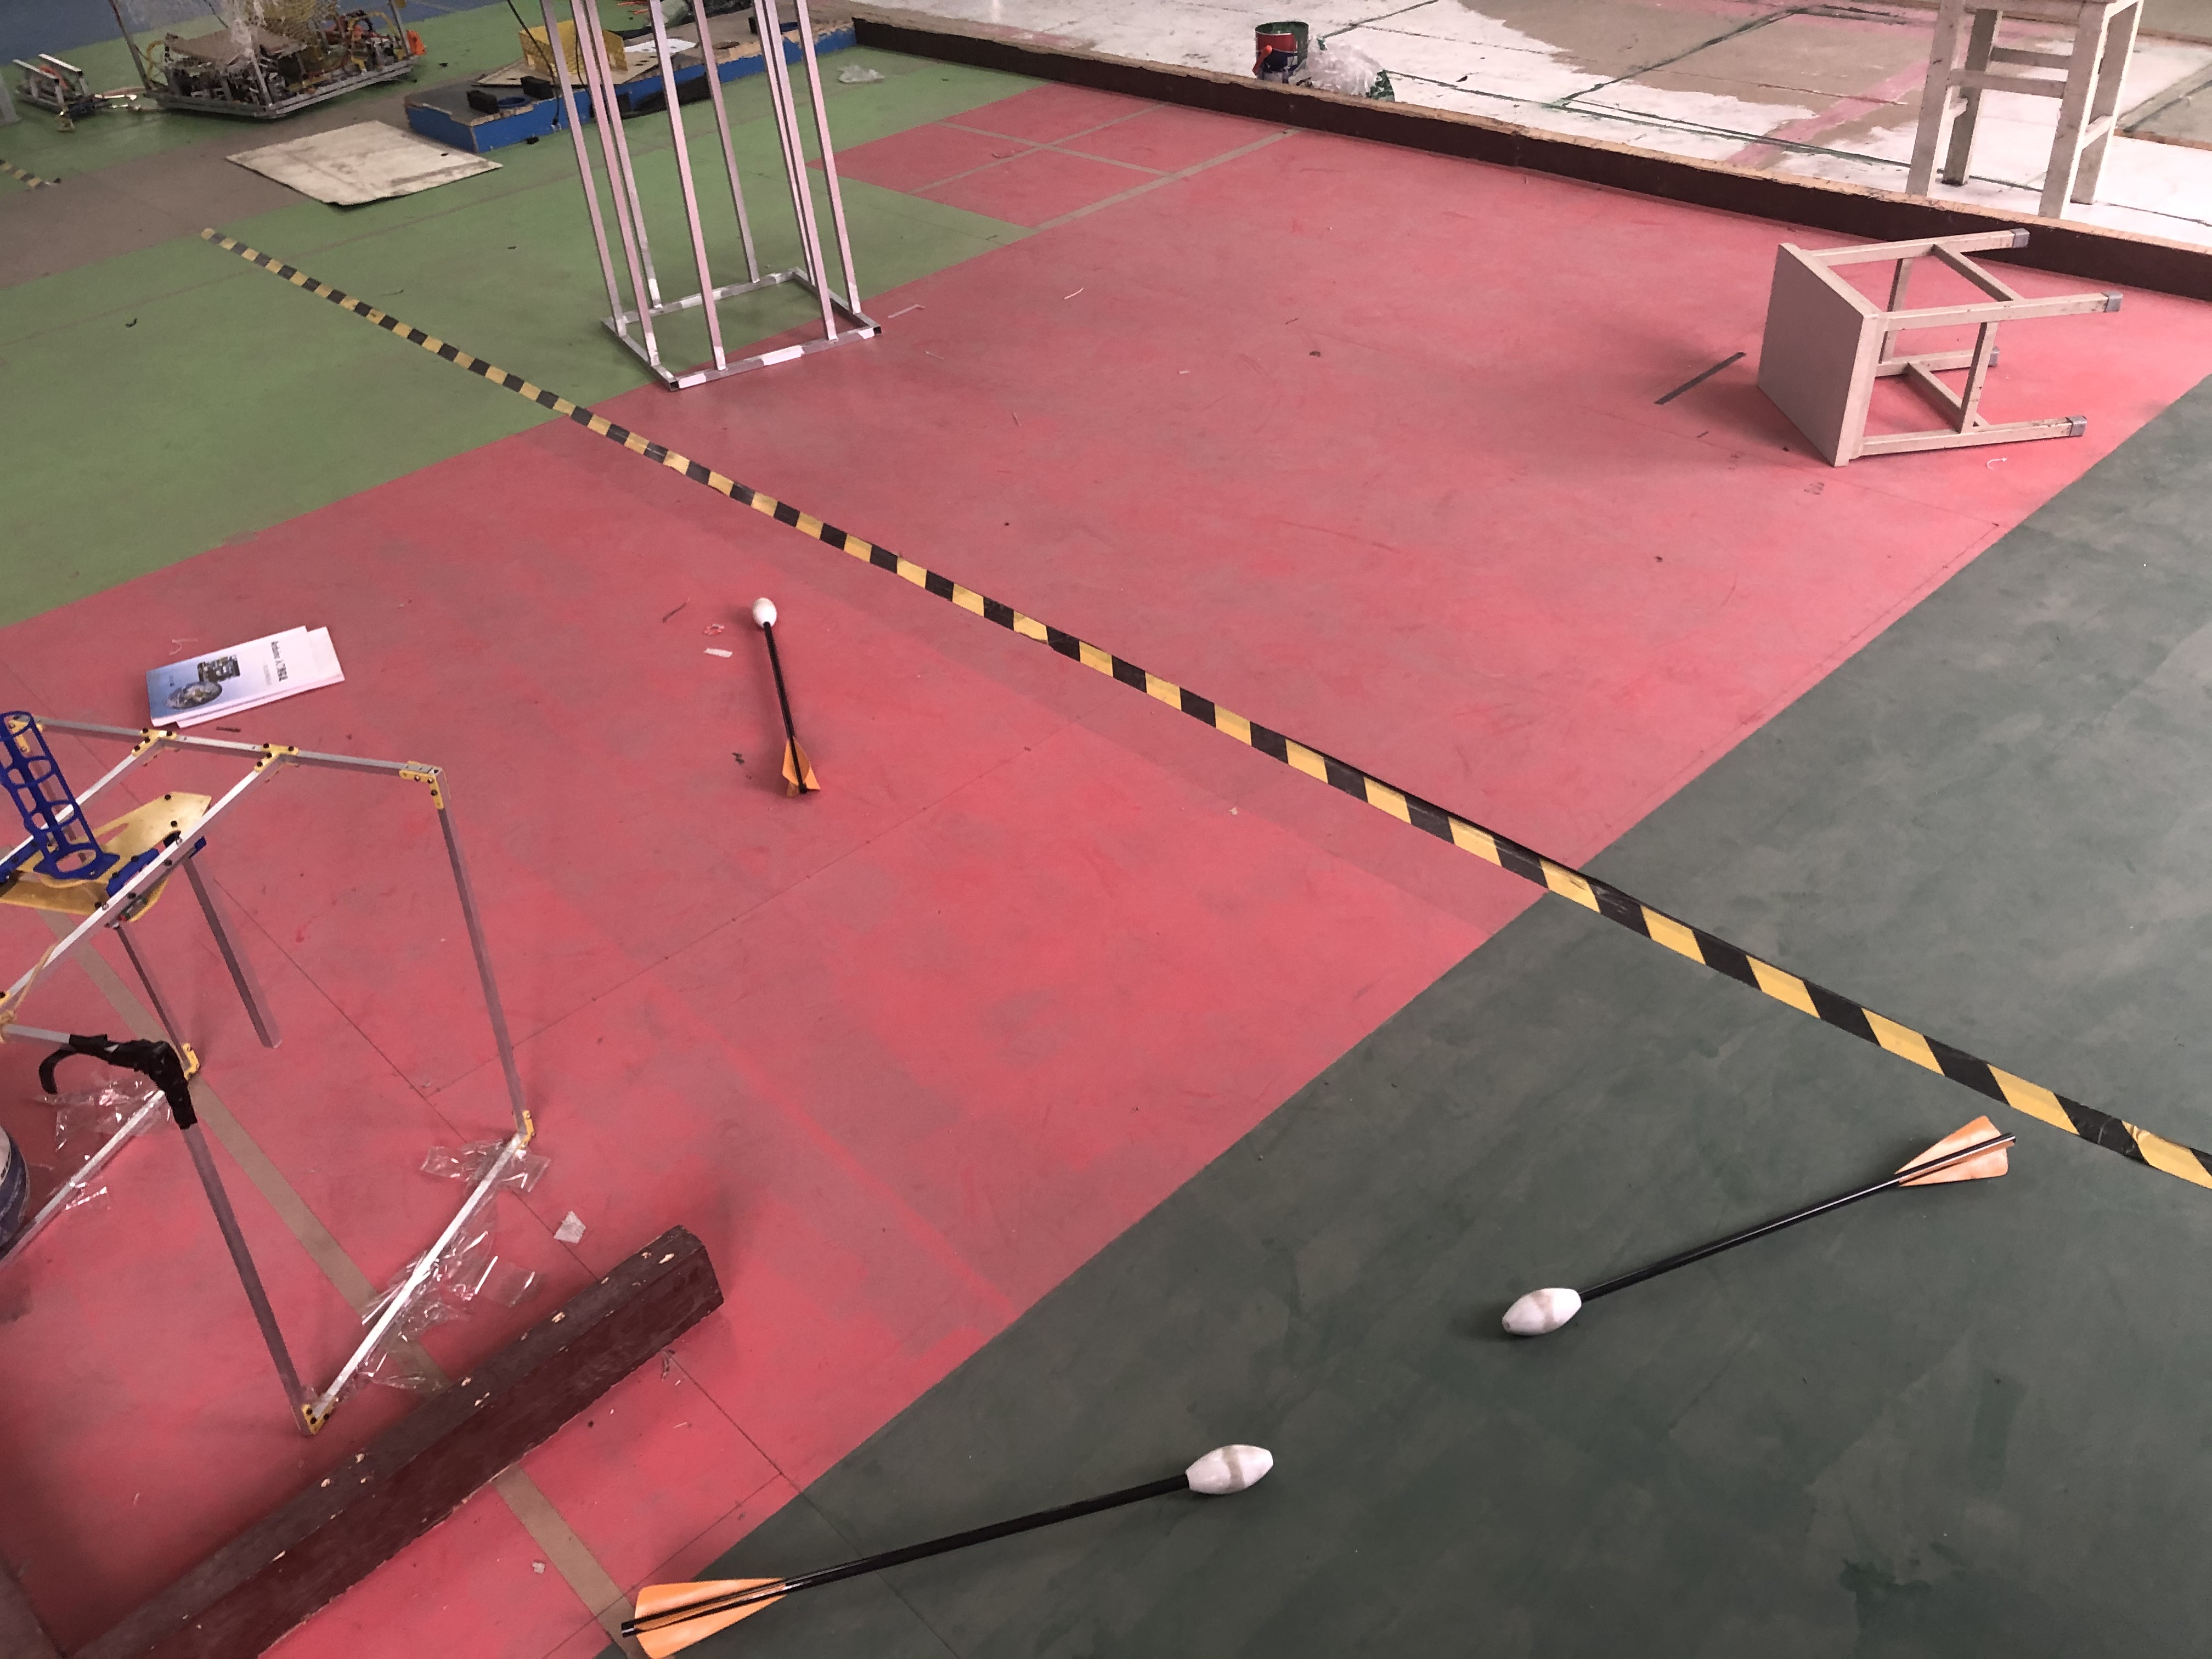arrow: (601, 1446, 1277, 1654), (1494, 1117, 2022, 1338), (749, 592, 820, 802)
arrowFront: (1501, 1281, 1588, 1337), (1181, 1443, 1275, 1492), (749, 591, 780, 633)
